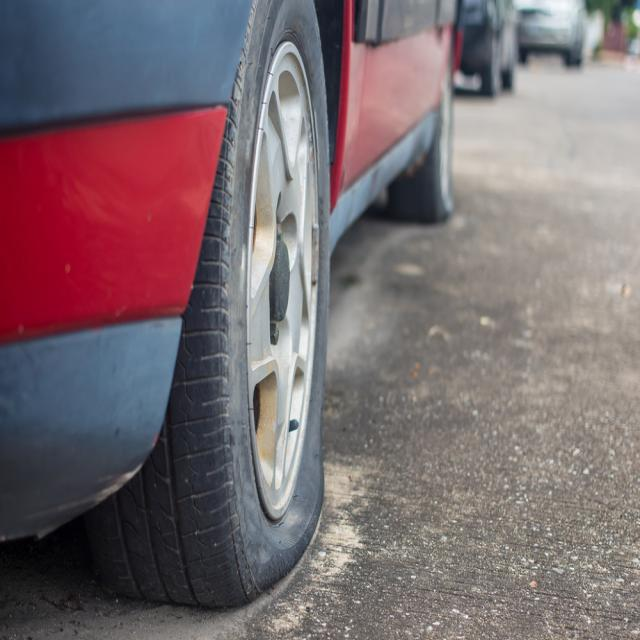tire flat: (91, 0, 331, 607)
